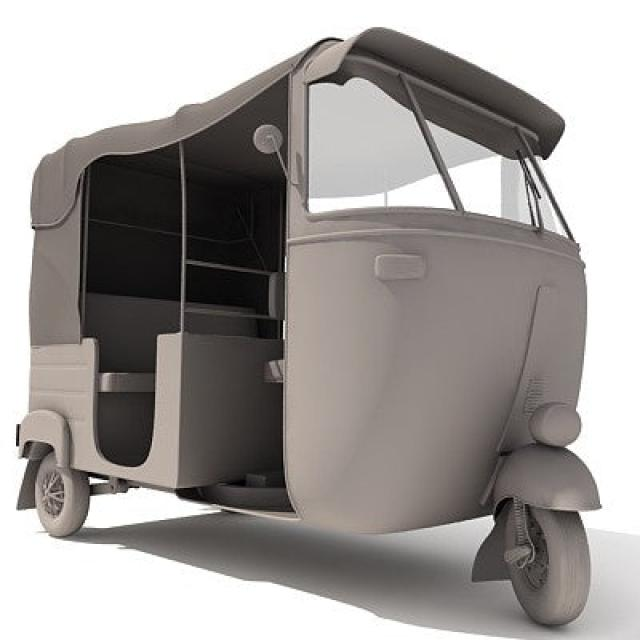autorickshaw: (16, 29, 599, 624)
